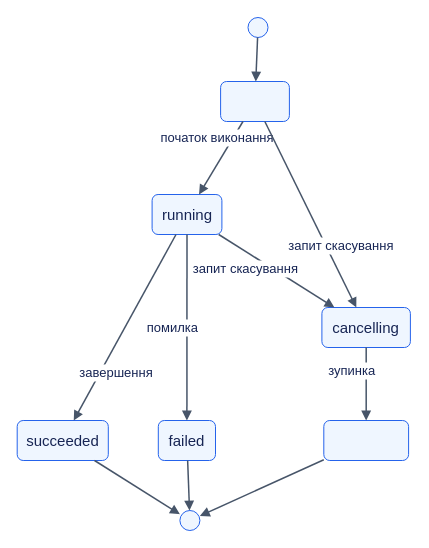
The diagram is 429 pixels wide and 548 high, and some of its shapes have lost their labels. The centre of each missing label's shape, as x and y in pixels:
"cancelled" belongs at point 366,440.
"queued" belongs at point 254,101.
